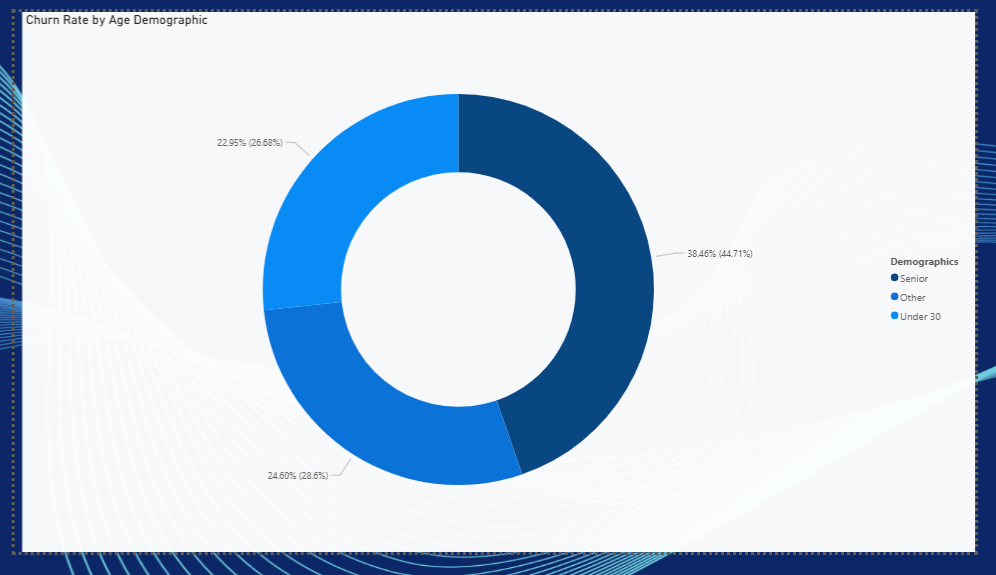

The dashboard page shown, as its layout file describes it:
{"tool":"powerbi","page":{"name":"Churn Rate by Age Demographic","canvas":[1280,720],"ordinal":4},"visuals":[{"type":"donutChart","title":"Churn Rate by Age Demographic","fields":{"Category":["Databel - Data.Demographics"],"Y":["Databel - Data.Churn Rate"]},"box":[9.4,0,1269.9,720],"z":0}]}

Visuals, with their boxes in screenshot pixels (x1, y1, x2, y2), scaled from the page's 1280x720 canvas onto the 996x575 screenshot:
"Churn Rate by Age Demographic" donutChart: (7,0,995,574)
